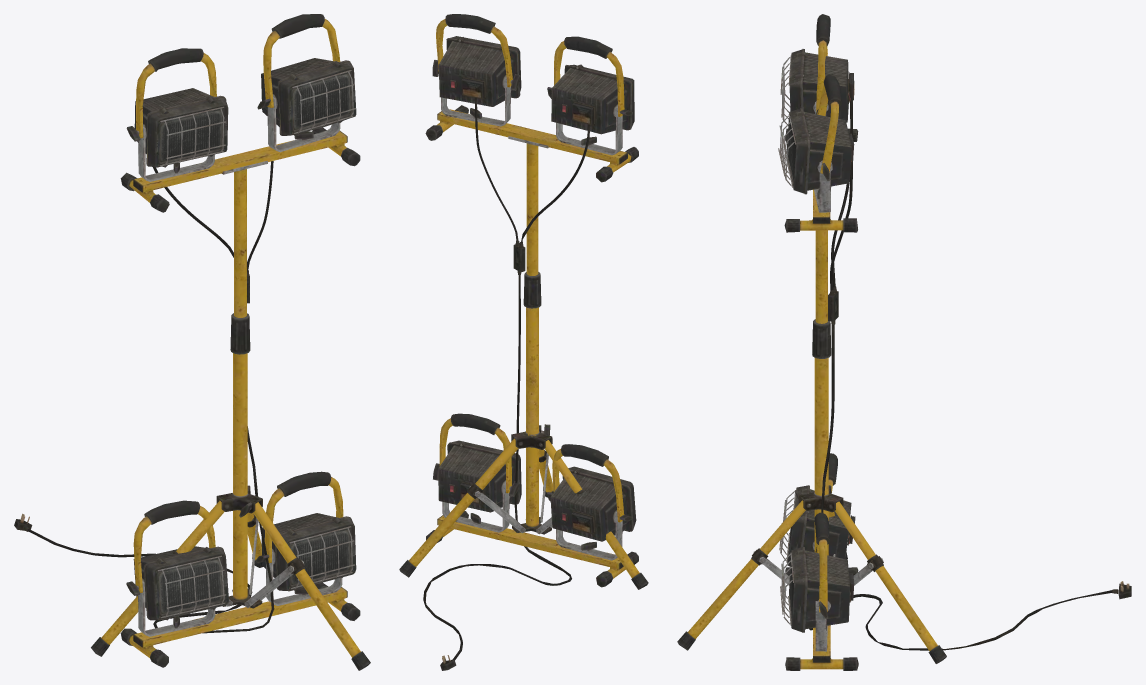
The model's file is flood_lights.glb.
3 views of the same model, side by side, from view 1: azimuth 30°, elevation 25°; view 2: azimuth 150°, elevation 25°; view 3: azimuth 270°, elevation 25° (orthographic). The views are drawn at different scales.
Parts seen in each view (by area): view 1: flood_lights_standing_double_a_bar, flood_lights_floor_double_a_bar, flood_lights_standing_double_a_light_01, flood_lights_floor_double_a_light_01; view 2: flood_lights_standing_double_a_bar, flood_lights_floor_double_a_bar; view 3: flood_lights_standing_double_a_bar, flood_lights_floor_double_a_bar.
Boxes of the visible parts, <box> form: flood_lights_standing_double_a_bar: <box>14,14,370,670</box>; flood_lights_floor_double_a_bar: <box>120,471,360,667</box>; flood_lights_standing_double_a_light_01: <box>160,73,350,162</box>; flood_lights_floor_double_a_light_01: <box>158,530,350,614</box>; flood_lights_standing_double_a_bar: <box>399,14,648,670</box>; flood_lights_floor_double_a_bar: <box>426,413,638,587</box>; flood_lights_standing_double_a_bar: <box>677,14,1131,663</box>; flood_lights_floor_double_a_bar: <box>779,453,858,670</box>.
Bounding box in the file's own units: 0.7784 × 1.79 × 1.28.
2 materials, 2 textured.
